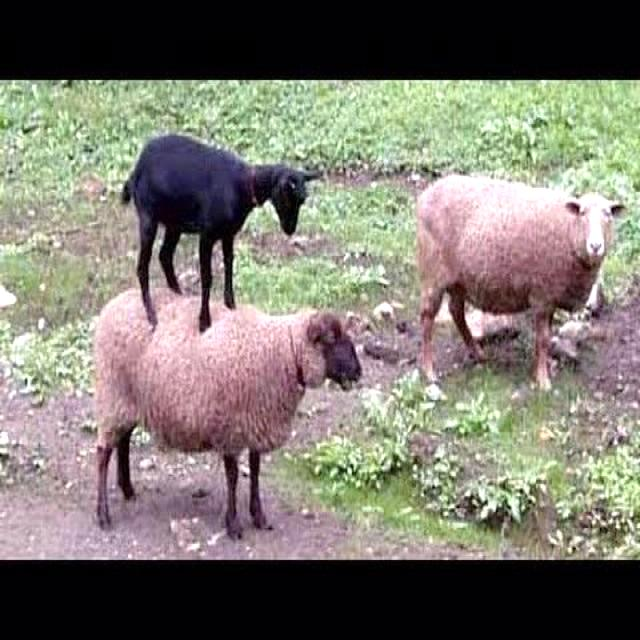sheep: (96, 287, 361, 541), (415, 173, 624, 391), (119, 136, 318, 334)
